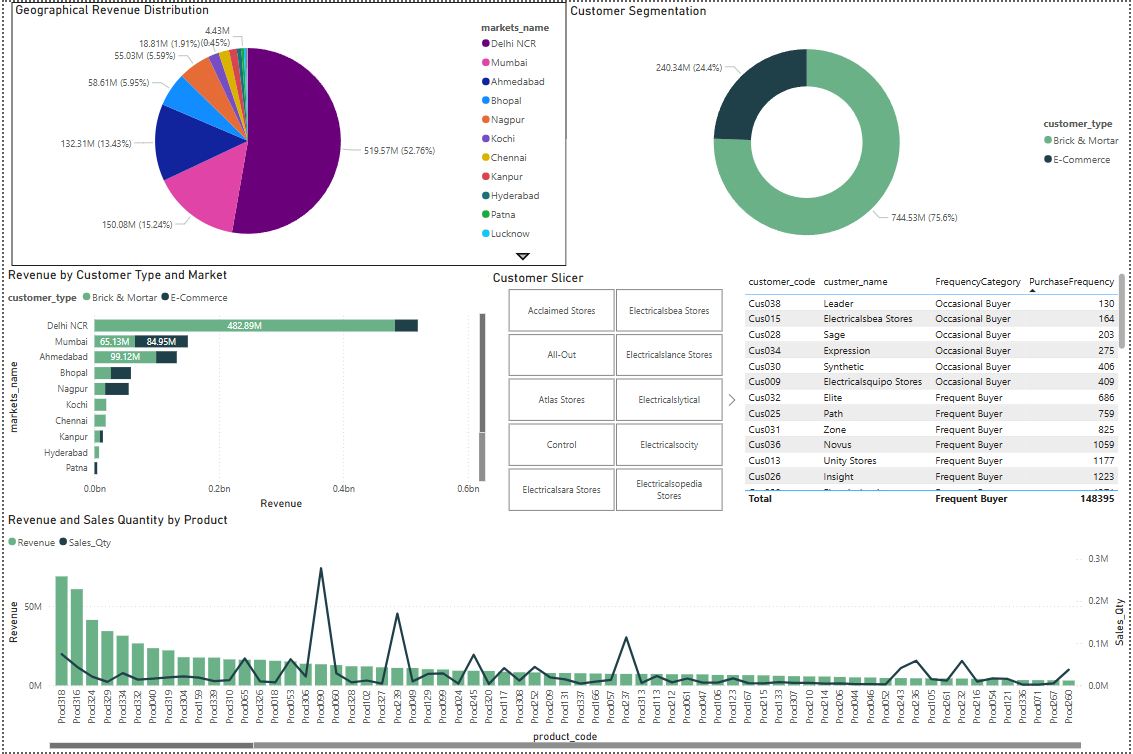

The dashboard page shown, as its layout file describes it:
{"tool":"powerbi","page":{"name":"Page 2","canvas":[1500,1000],"ordinal":1},"visuals":[{"type":"pieChart","title":"Geographical Revenue Distribution","fields":{"Y":["BaseMeasures.Revenue"],"Category":["sales markets.markets_name"]},"box":[10,0,740,351.7],"z":0},{"type":"donutChart","title":"Customer Segmentation","fields":{"Category":["sales customers.customer_type"],"Y":["BaseMeasures.Revenue"]},"box":[750,1.7,750,351.7],"z":1000},{"type":"tableEx","fields":{"Values":["sales customers.customer_code","sales customers.custmer_name","BaseMeasures.FrequencyCategory","BaseMeasures.PurchaseFrequency"]},"box":[981.7,356.7,518.3,320],"z":2000},{"type":"barChart","title":"Revenue by Customer Type and Market","fields":{"Series":["sales customers.customer_type"],"Category":["sales markets.markets_name"],"Y":["BaseMeasures.Revenue"]},"box":[0,353.3,646.7,328.3],"z":3000},{"type":"lineClusteredColumnComboChart","title":"Revenue and Sales Quantity by Product","fields":{"Category":["sales transactions.product_code"],"Y":["BaseMeasures.Revenue"],"Y2":["BaseMeasures.Sales_Qty"]},"box":[0,680,1500,320],"z":4000},{"type":"slicer","title":"Customer Slicer","fields":{"Values":["sales customers.custmer_name"]},"box":[646.7,356.7,335,328.3],"z":5000}]}

Visuals, with their boxes in screenshot pixels (x1, y1, x2, y2), scaled from the page's 1500x1000 canvas onto the 1133x754 screenshot:
"Geographical Revenue Distribution" pieChart: detection(8, 0, 566, 265)
"Customer Segmentation" donutChart: detection(566, 1, 1132, 266)
tableEx - sales customers.customer_code x sales customers.custmer_name: detection(742, 269, 1132, 510)
"Revenue by Customer Type and Market" barChart: detection(0, 266, 488, 514)
"Revenue and Sales Quantity by Product" lineClusteredColumnComboChart: detection(0, 513, 1132, 753)
"Customer Slicer" slicer: detection(488, 269, 742, 516)
